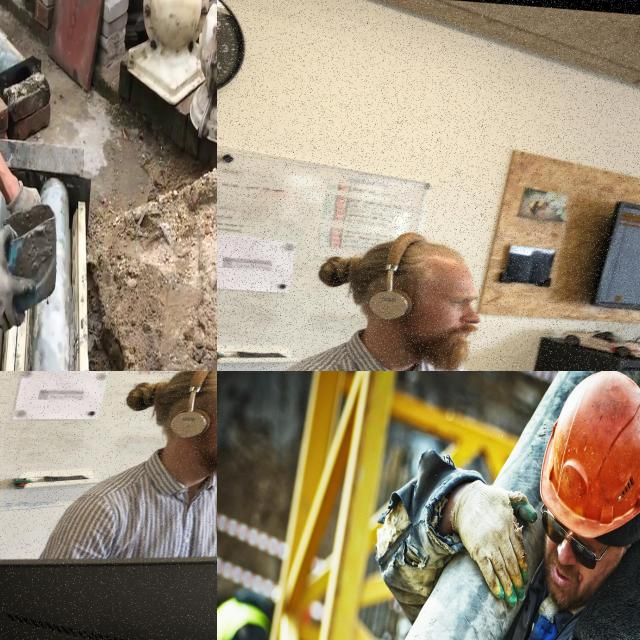Ear-protection: (328, 229, 496, 371), (144, 371, 217, 493)
face_nomask: (544, 508, 610, 615)
glasses: (537, 503, 602, 575)
hand_glove: (451, 460, 534, 608), (0, 224, 34, 332)
head_helmet: (544, 371, 640, 535)
person: (437, 375, 640, 640)
vest: (217, 565, 261, 640)
